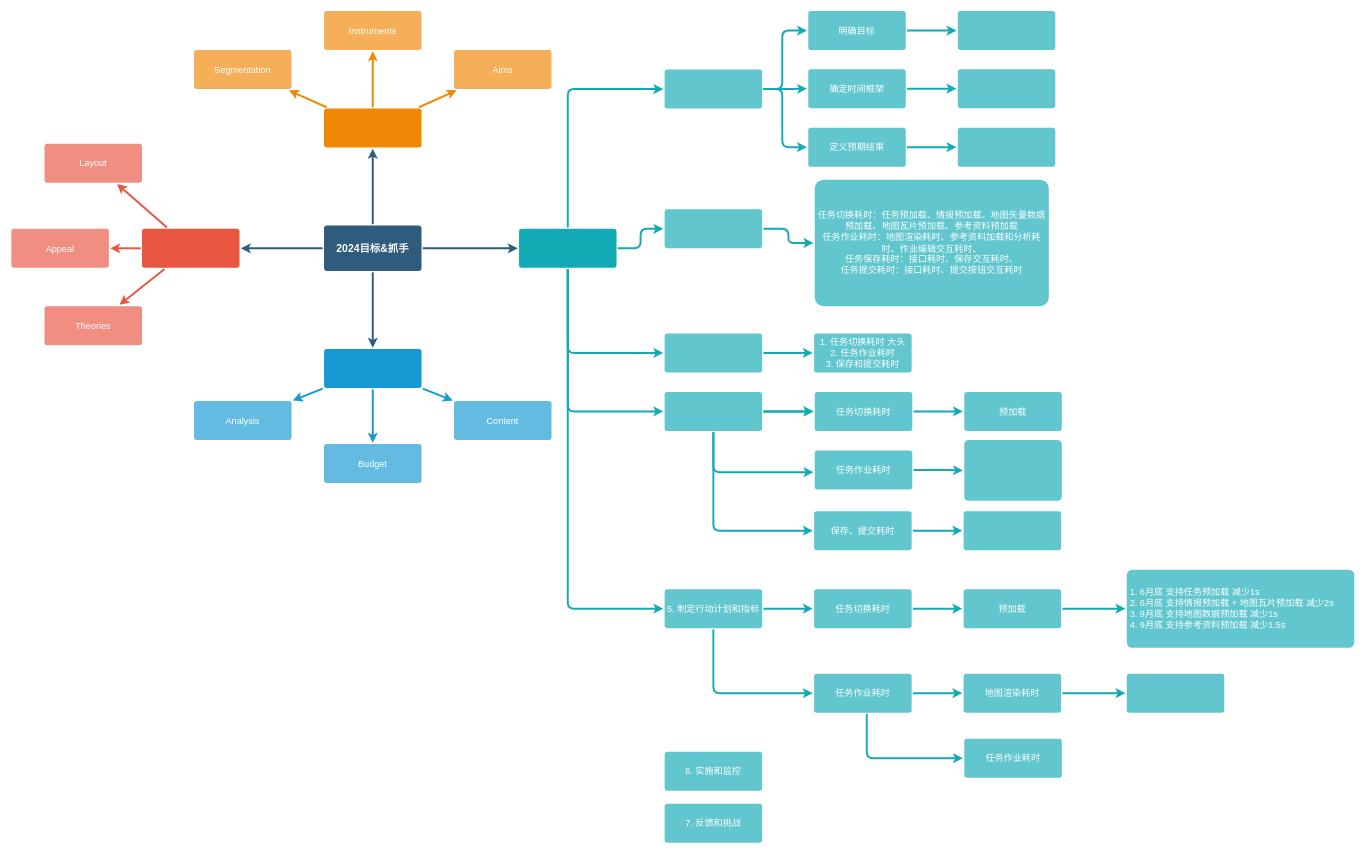
The diagram is 1365 pixels wide and 854 high, and some of its shapes have lost their labels. Here are the shapes that lost their labels. From the top down, the box of each, then its label:
(957, 11, 1055, 50): 交规类专项作业效率提升
(664, 69, 762, 108): 1. 理解和定义目标
(957, 69, 1055, 108): 2024年底
(324, 108, 421, 147): Marketing
(957, 127, 1055, 166): 单人效率从 604/人天 -> 900/人天
(142, 228, 239, 267): Embassy
(519, 228, 616, 267): 交规类专项 作业效率提升 604 -> 900
(664, 209, 762, 248): 2. 识别关键因素
(324, 349, 421, 388): 连接路专项 作业效率提升 890 -> 1200
(664, 333, 762, 372): 3. 评估和优先排序
(664, 392, 762, 431): 4. 确定具体抓手
(964, 440, 1061, 500): 1. 编辑工具提效 2. 资料推荐有效率提升 3. 工作流 4. 自动化 5. 地图操作
(963, 511, 1061, 550): 1. 交互优化、快捷键 2. 接口优化
(1126, 673, 1224, 712): 6月底 优化tu
